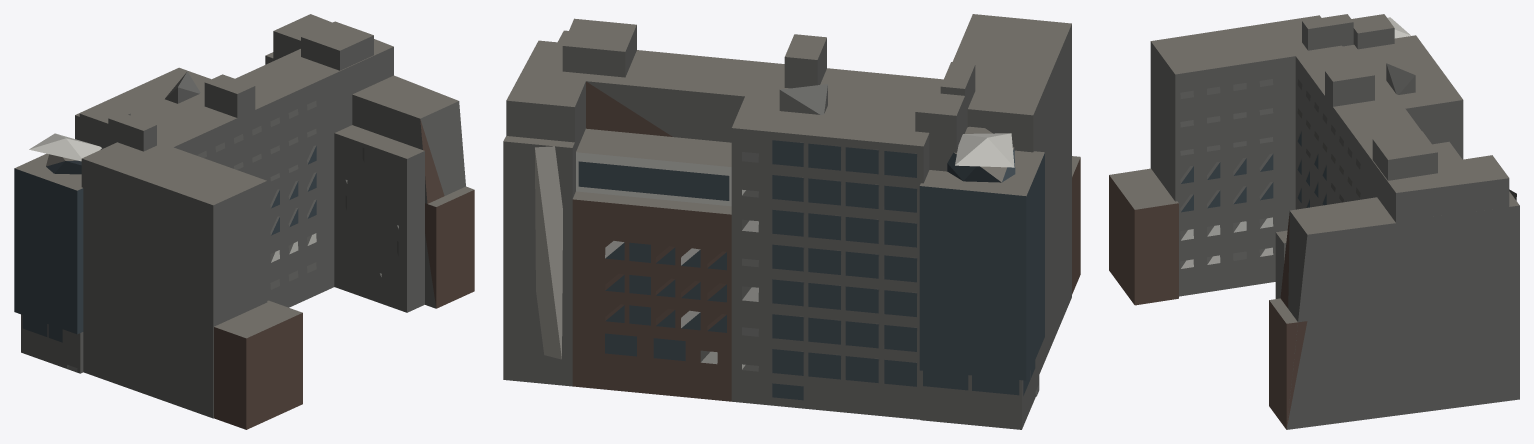
File: joodse-invalide.lod2.glb
The picture shows the model from 3 angles, left to right: view 1: azimuth 30°, elevation 25°; view 2: azimuth 150°, elevation 25°; view 3: azimuth 270°, elevation 25°; orthographic projection. The views are drawn at different scales.
Visible parts, largest first — view 1: lod2; view 2: lod2; view 3: lod2.
Boxes of the visible parts, left/top/right/bottom form: lod2: left=14, top=14, right=474, bottom=429; lod2: left=503, top=14, right=1080, bottom=429; lod2: left=1109, top=14, right=1519, bottom=429.
Bounding box in the file's own units: 62.96 × 35 × 52.59.
